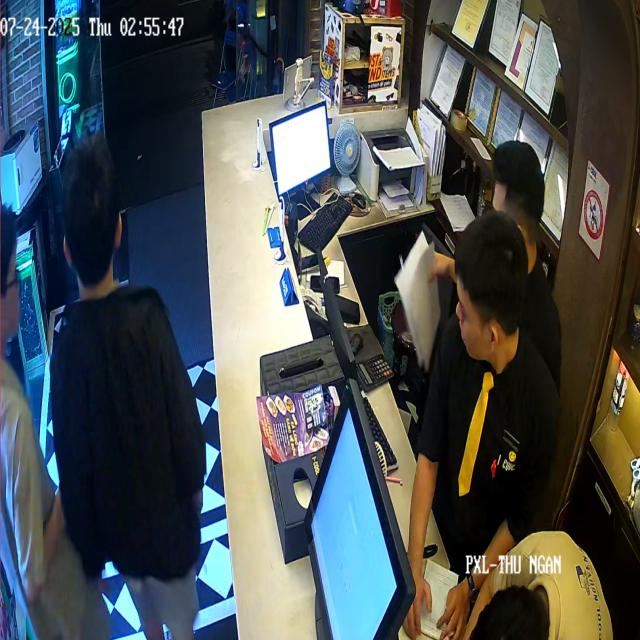khach: (50, 139, 232, 640), (3, 180, 49, 640)
nhan vien: (404, 202, 573, 636), (477, 103, 585, 394)
